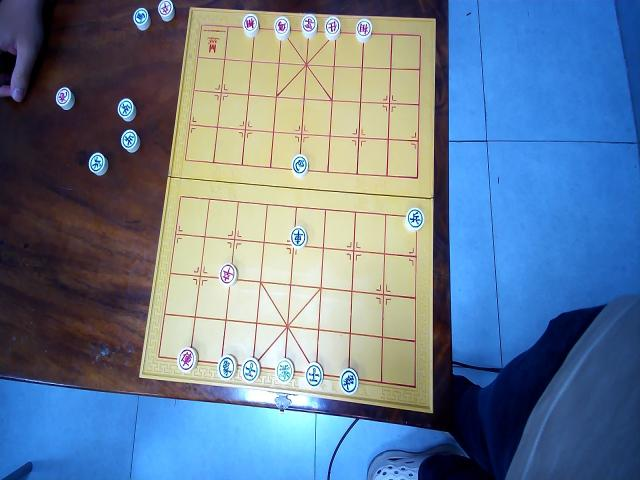piece: (217, 354, 237, 381), (177, 346, 197, 373), (54, 85, 74, 111), (116, 96, 136, 122), (339, 367, 358, 394), (405, 206, 425, 231), (218, 263, 238, 287), (88, 151, 108, 175), (120, 127, 139, 152), (275, 358, 293, 384), (242, 357, 260, 382), (305, 362, 323, 387), (355, 16, 372, 42), (132, 6, 150, 30), (289, 225, 307, 248), (324, 15, 340, 40), (242, 12, 258, 37), (274, 15, 290, 40), (157, 0, 175, 22), (301, 14, 317, 38), (292, 154, 308, 177)
